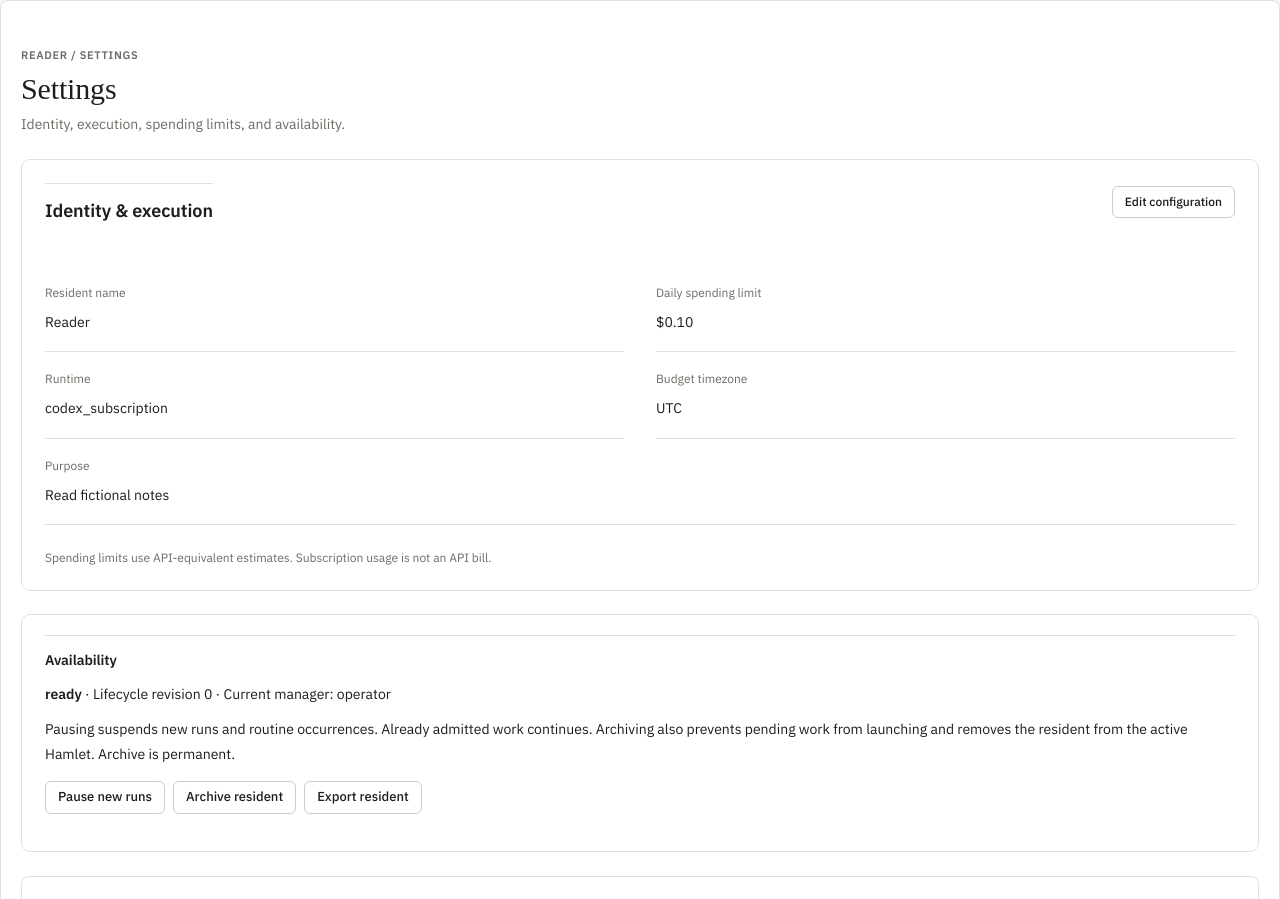
Test: sends only changed owning groups and retains a conflicting profile draft
The width and height of the screenshot is (1280, 899).
Click the button "Edit configuration": click(1173, 202) [1112,186,1235,218]
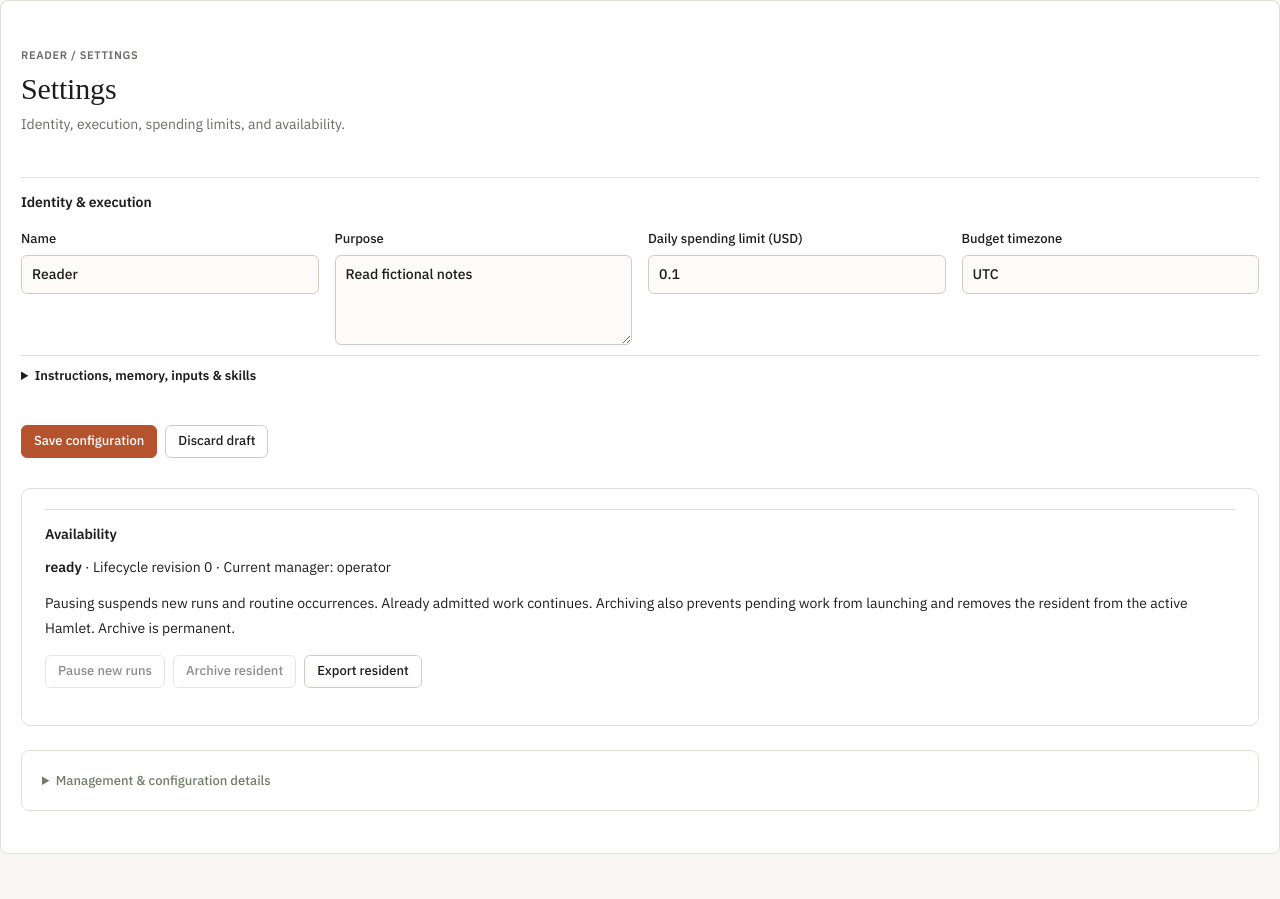
Replace the text in the text box labelled "Purpose" with "Human draft purpose": (483, 300) [334,254,632,344]
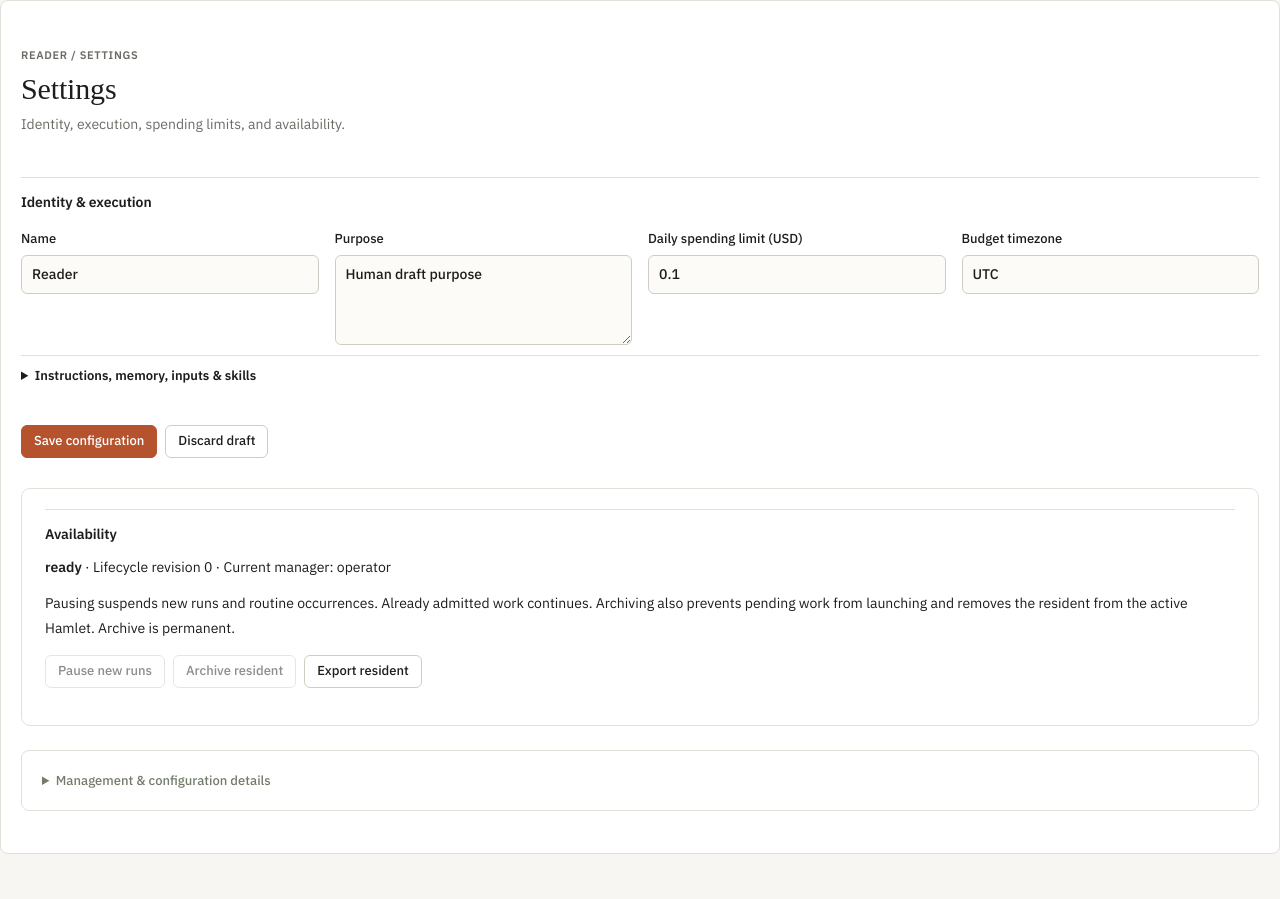
Click the button "Save configuration": click(89, 441) [21,425,157,458]
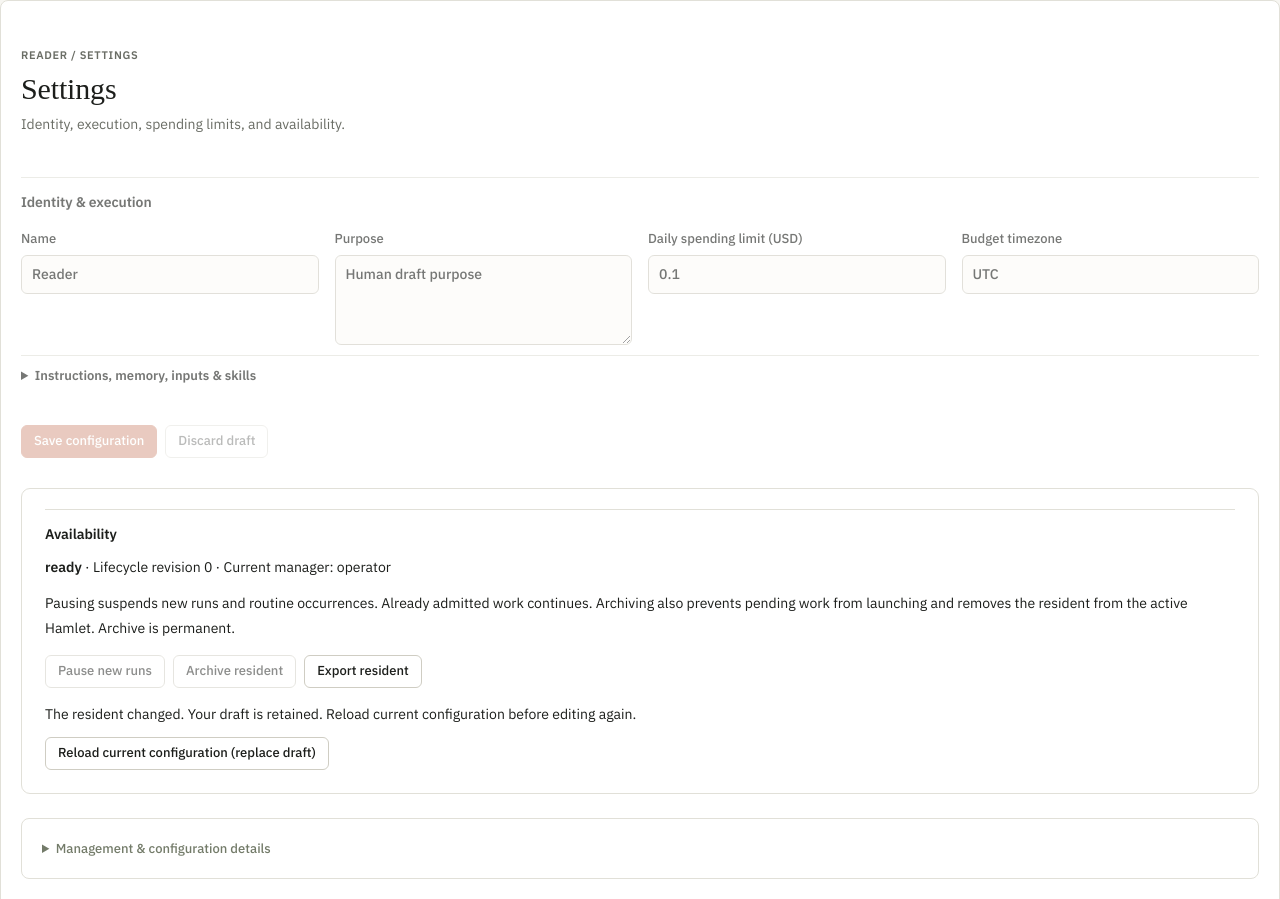
Now the text "draft is retained" is shown, box [45,705,636,723]
